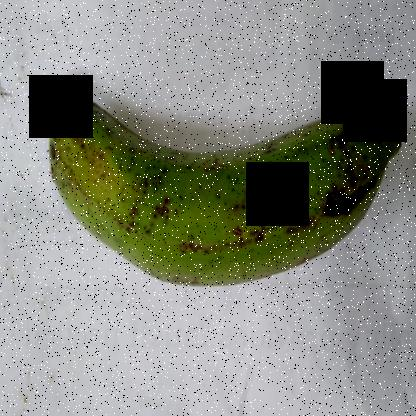rotten: (321, 154, 387, 231)
unripe: (30, 62, 398, 319)
